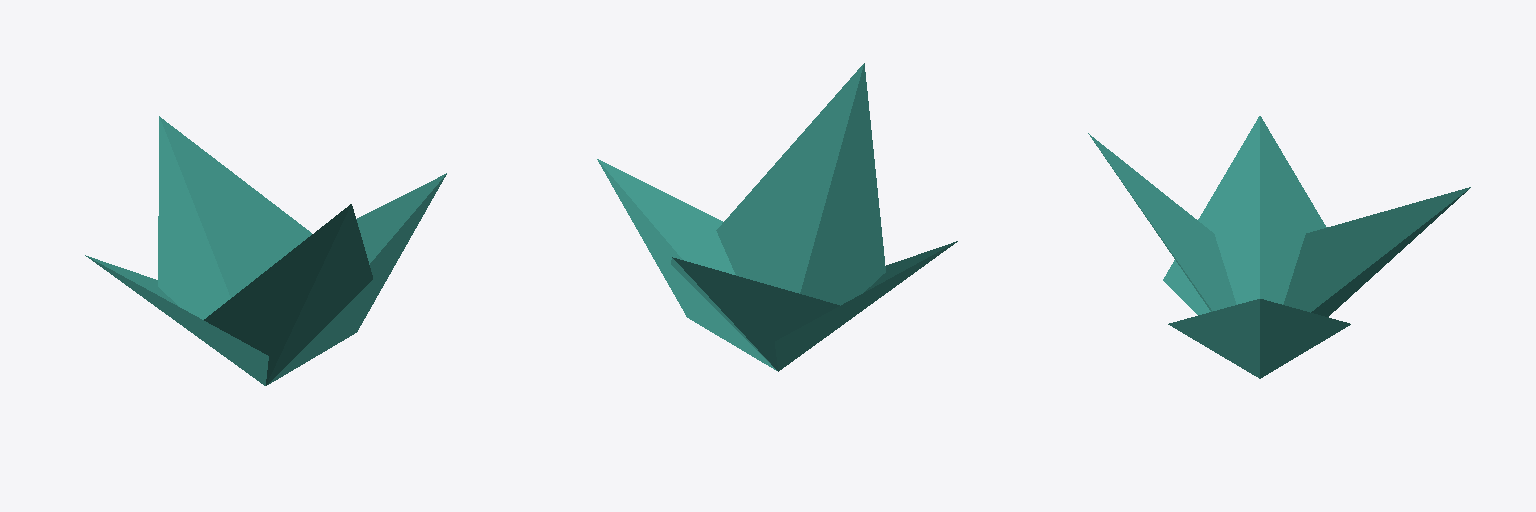
Rendered from Kräuter.obj.
3 renders of one model, left to right at view 1: azimuth 30°, elevation 25°; view 2: azimuth 150°, elevation 25°; view 3: azimuth 270°, elevation 25°, orthographic.
Visible parts, largest first — view 1: plant_bushSmall; view 2: plant_bushSmall; view 3: plant_bushSmall.
Part boxes in pixels (left/top/right/bottom): plant_bushSmall: left=85, top=116, right=446, bottom=385; plant_bushSmall: left=597, top=63, right=957, bottom=371; plant_bushSmall: left=1088, top=116, right=1470, bottom=378.
Bounding box in the file's own units: 332 × 215 × 305.